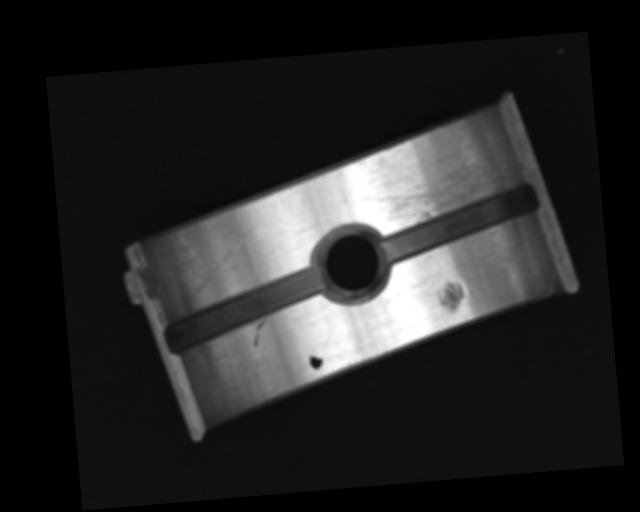blot: (308, 348, 324, 371)
bruise: (434, 278, 466, 314)
gap: (161, 267, 328, 355), (374, 184, 543, 264)
hole: (313, 222, 390, 303)
nick: (185, 224, 259, 298), (251, 317, 269, 349)
scratch: (352, 135, 528, 229)
